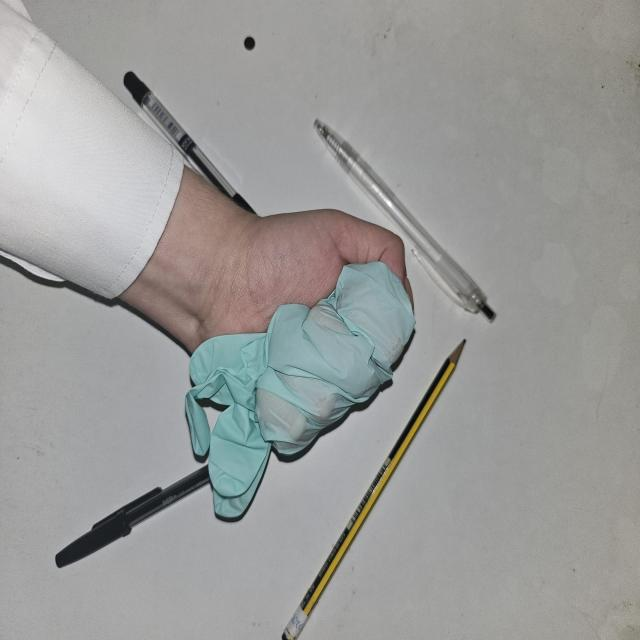glove_partial: (185, 209, 416, 514)
